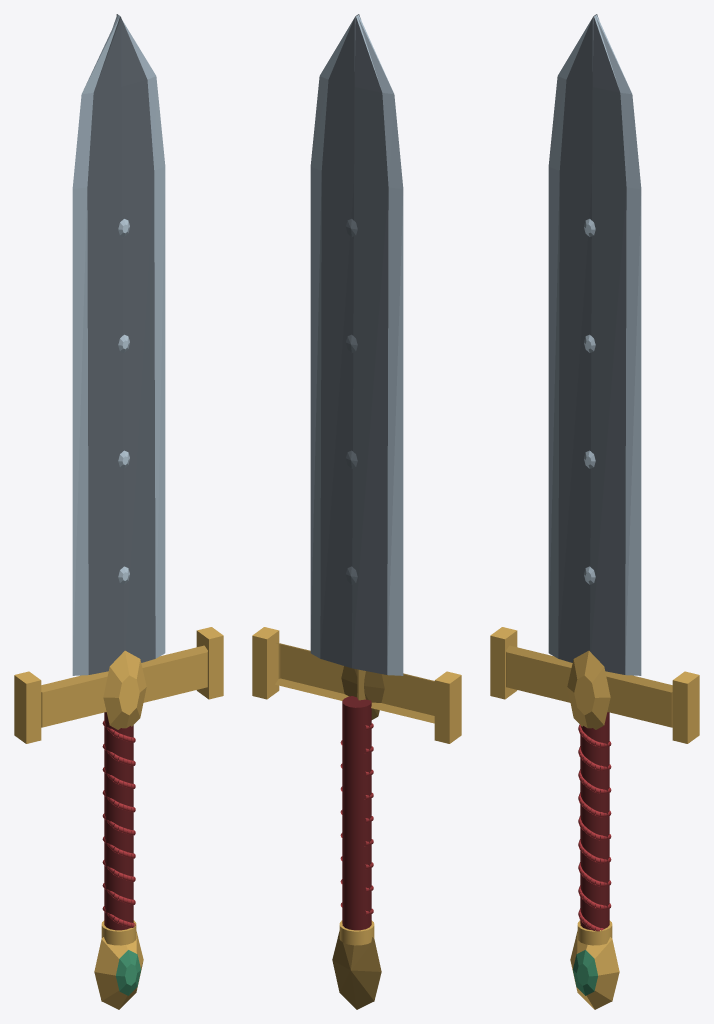
File: Great.obj
The picture shows the model from 3 angles, left to right: view 1: azimuth 30°, elevation 25°; view 2: azimuth 150°, elevation 25°; view 3: azimuth 330°, elevation 25°; orthographic projection.
Visible parts, largest first — view 1: Great; view 2: Great; view 3: Great.
Boxes of the visible parts, left/top/right/bottom form: Great: left=14, top=14, right=223, bottom=1009; Great: left=252, top=14, right=461, bottom=1009; Great: left=490, top=14, right=699, bottom=1009.
Size of the model in its own units: 13.2 by 63.49 by 2.42.
